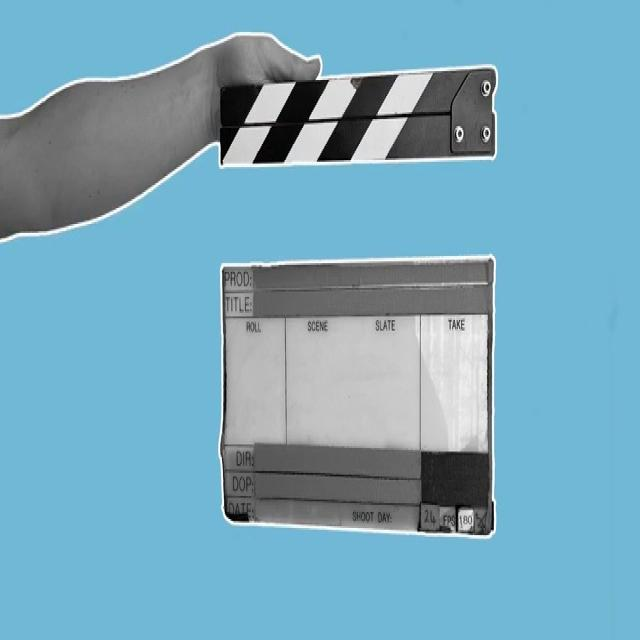Clapperboard: (219, 65, 495, 544)
